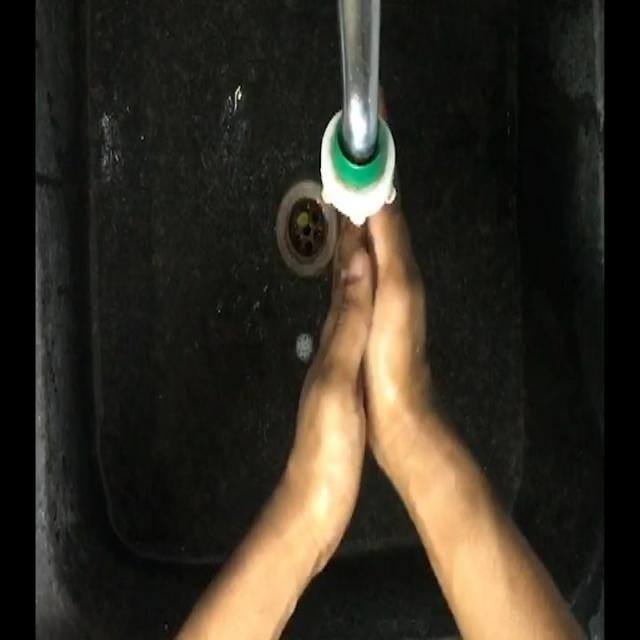step_1: (290, 73, 426, 485)
